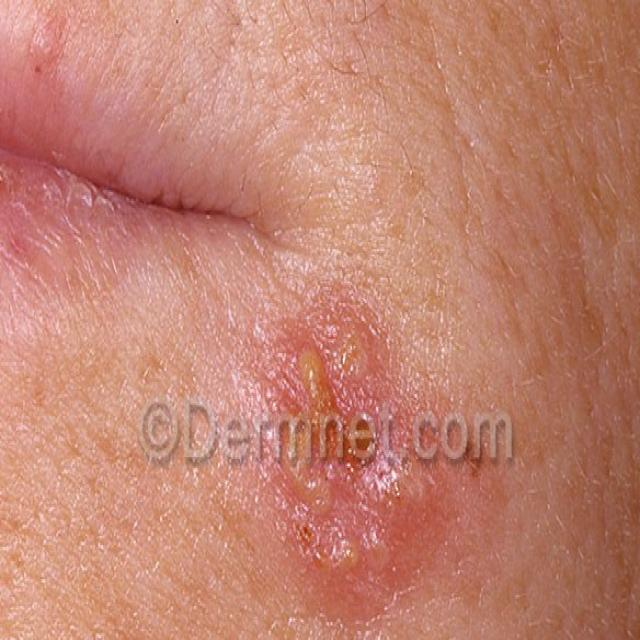Viral Infections: (248, 263, 469, 625)
